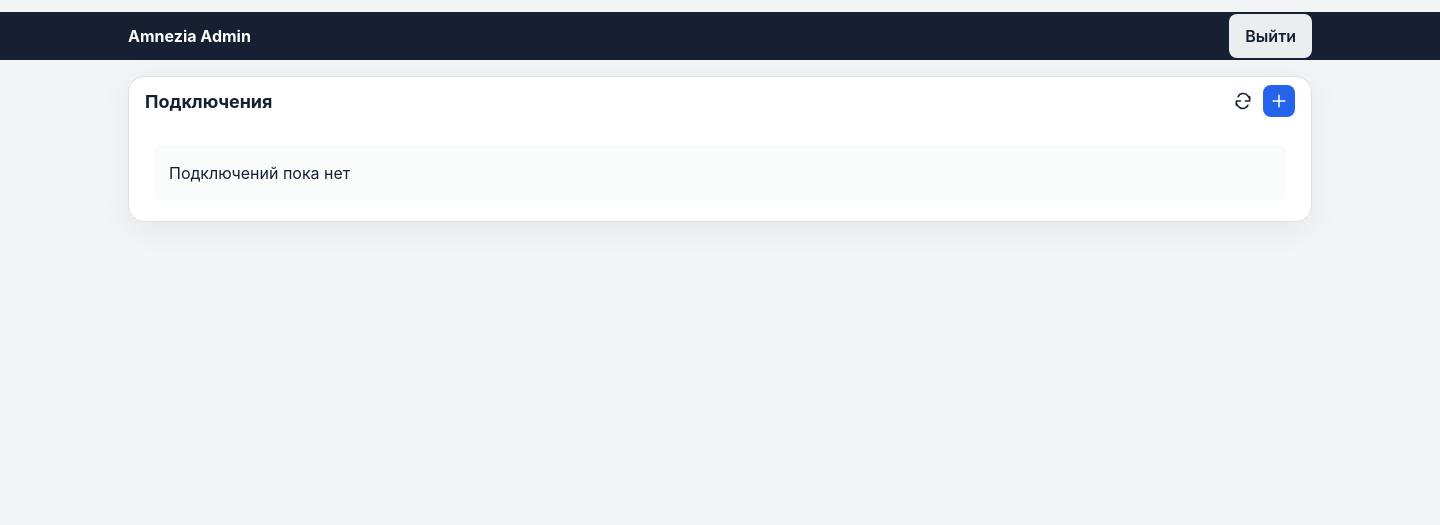
it: cookie session › restores the session and logs out through the existing API
Expected: the text "Подключений пока нет" is shown, [153,145,1287,201]
Click the button "Выйти": (1271, 36) [1229,14,1312,58]
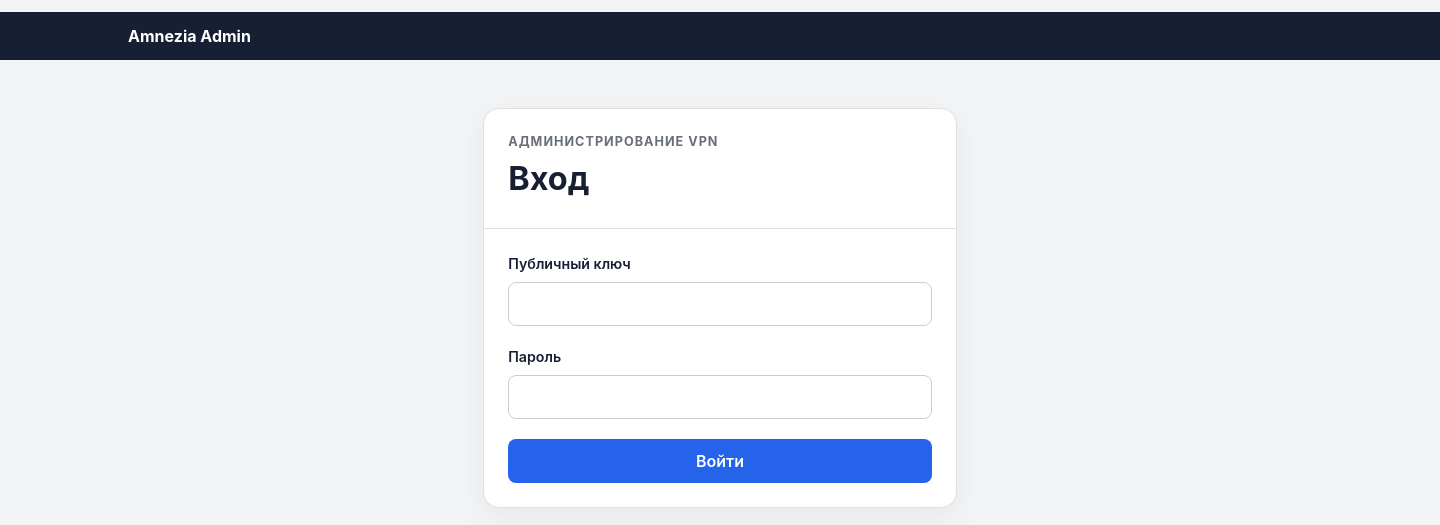
Expected: the heading "Вход" is shown, [508,159,589,198]
